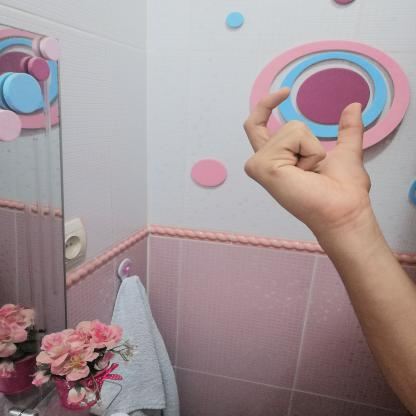NOON: (225, 74, 390, 234)
